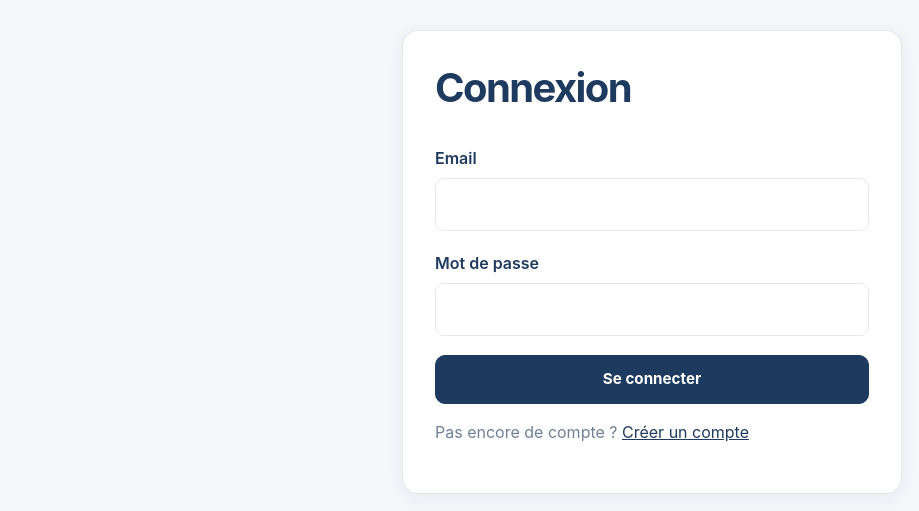
LoginPage › [F08a.4] connecte l'utilisateur et redirige vers les événements
This screenshot has width=919, height=511.
Type "jean@example.com" into the field labelled "Email" at coordinates (652, 205), box left=435, top=178, right=869, bottom=231
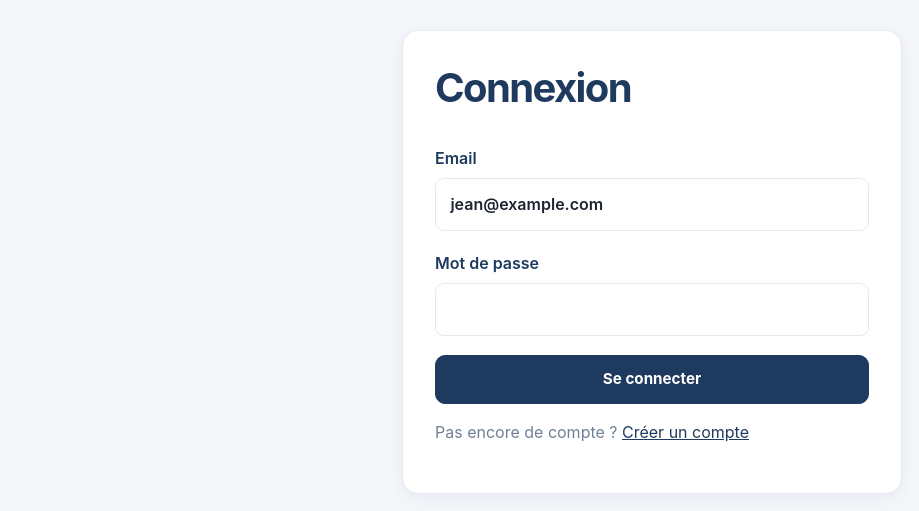
Type "password123" into the password field labelled "Mot de passe" at coordinates (652, 309), box left=435, top=282, right=869, bottom=336
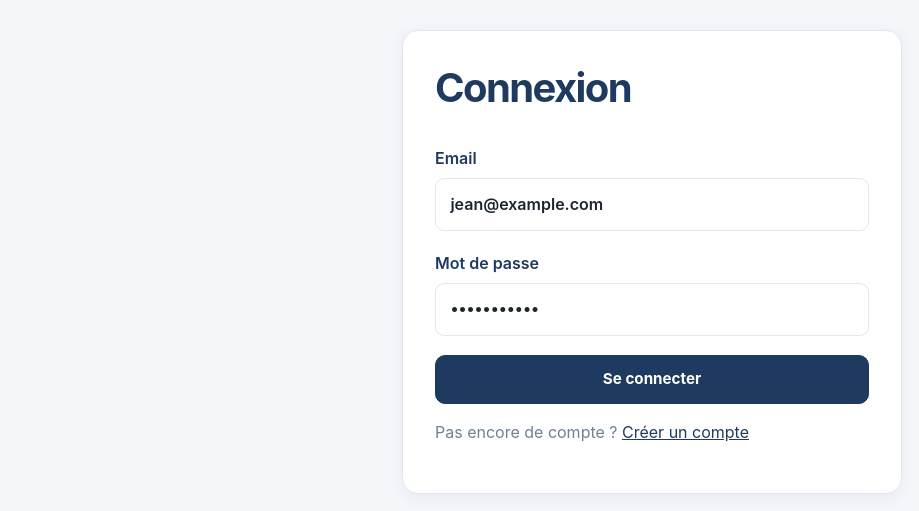
Click the button "Se connecter" at coordinates (652, 379), box left=435, top=355, right=869, bottom=404
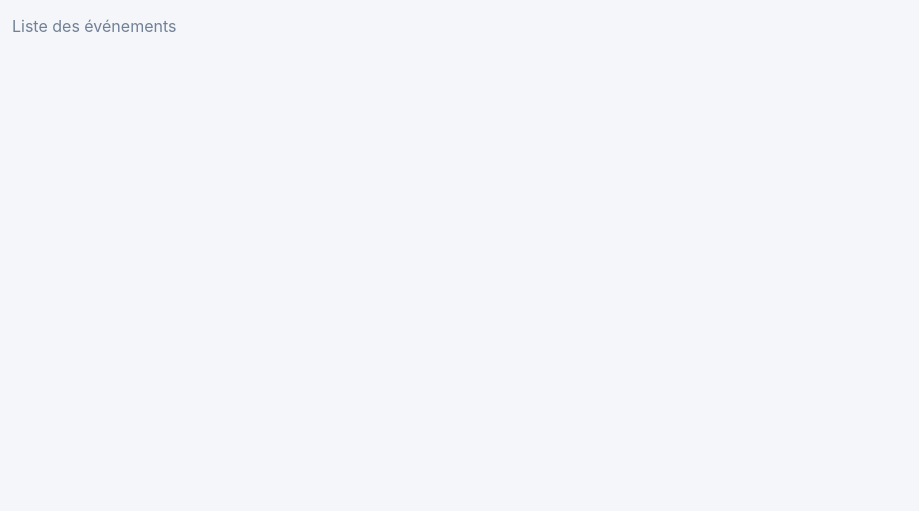
Expected: the text "Liste des événements" is shown, left=12, top=16, right=176, bottom=36
